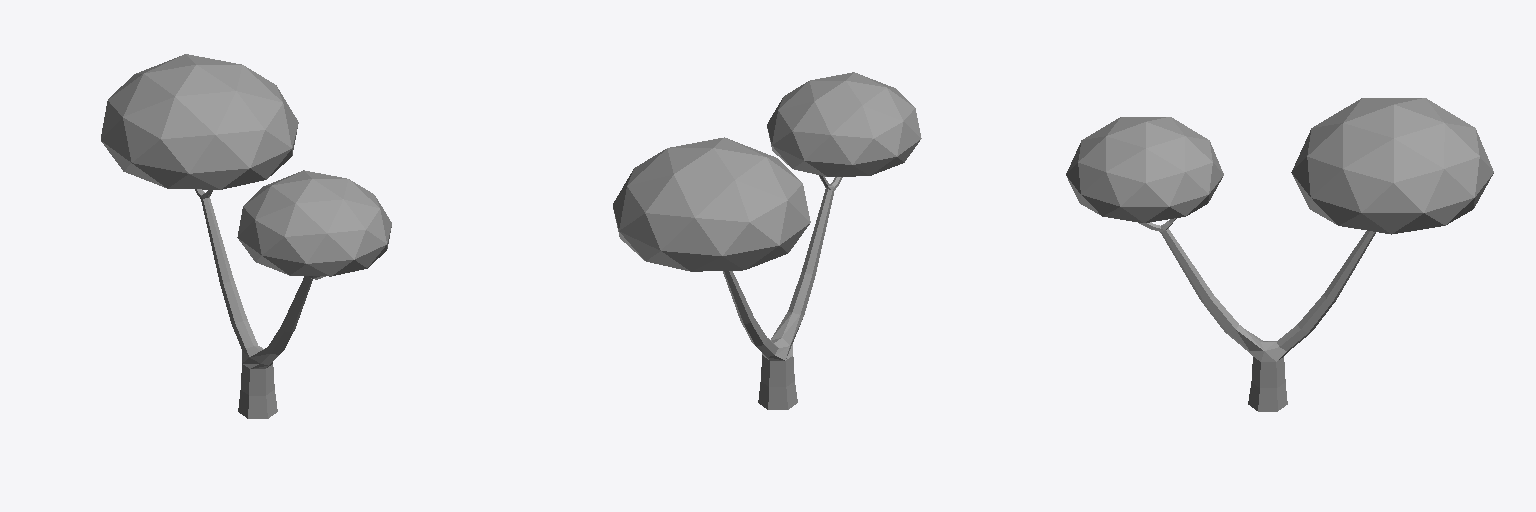
File: Tree2.obj
The picture shows the model from 3 angles: view 1: azimuth 30°, elevation 25°; view 2: azimuth 150°, elevation 25°; view 3: azimuth 270°, elevation 25°; orthographic projection.
Parts seen in each view (by area): view 1: Icosphere.001; view 2: Icosphere.001; view 3: Icosphere.001.
Boxes of the visible parts, box(x1,y1,x2,y2) form: Icosphere.001: box(101, 54, 391, 418); Icosphere.001: box(613, 72, 921, 409); Icosphere.001: box(1066, 98, 1493, 411).
Size of the model in its own units: 1.45 by 2.49 by 3.21.